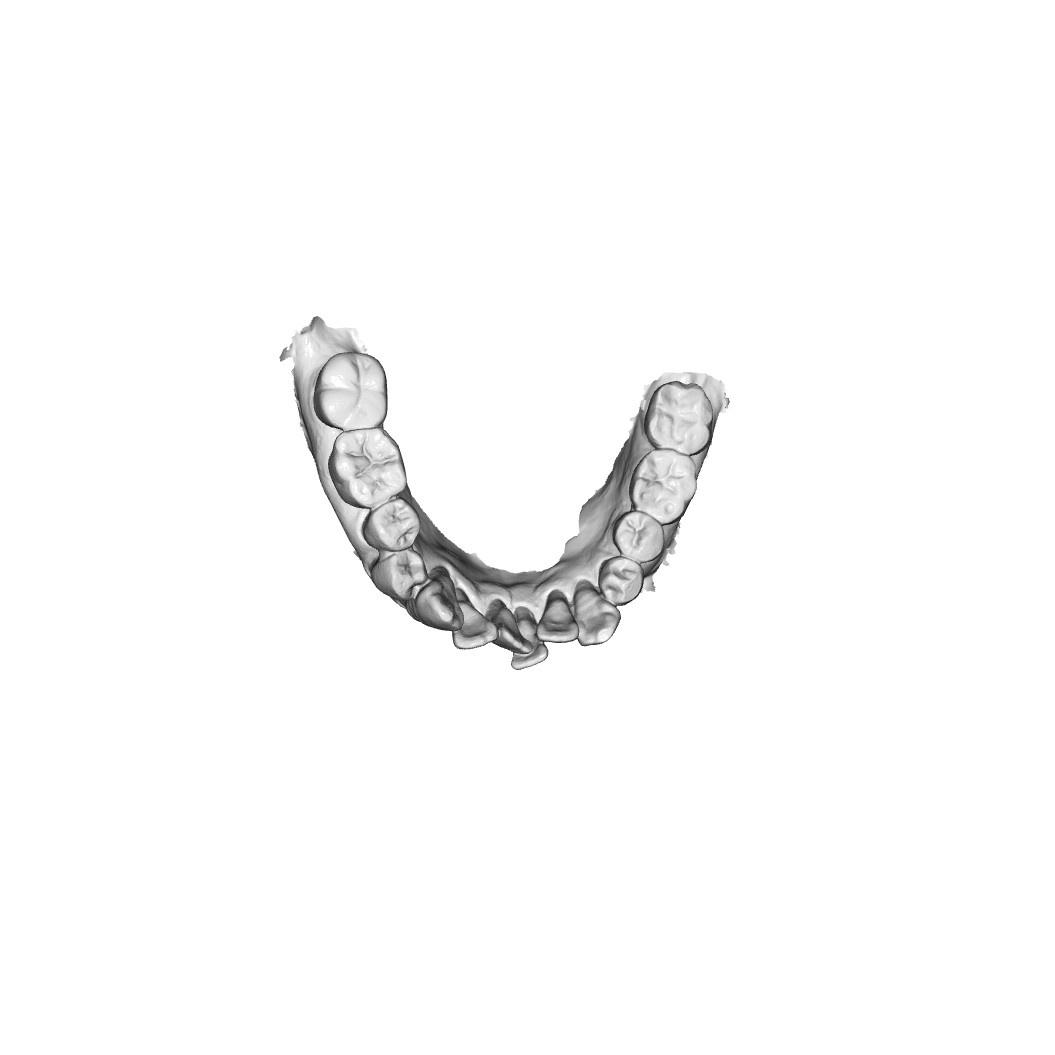canine: (574, 584, 620, 648), (415, 575, 463, 629)
incisor: (452, 598, 498, 649), (510, 612, 549, 671), (540, 592, 578, 647), (491, 604, 530, 657)
molar: (328, 429, 407, 511), (313, 351, 387, 431), (645, 378, 713, 454), (632, 447, 696, 524)
premolar: (361, 499, 421, 553), (375, 548, 430, 598), (615, 512, 666, 563), (598, 555, 647, 606)
